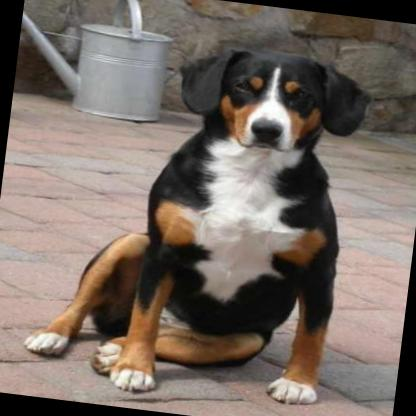EntleBucher: (17, 25, 368, 416)
